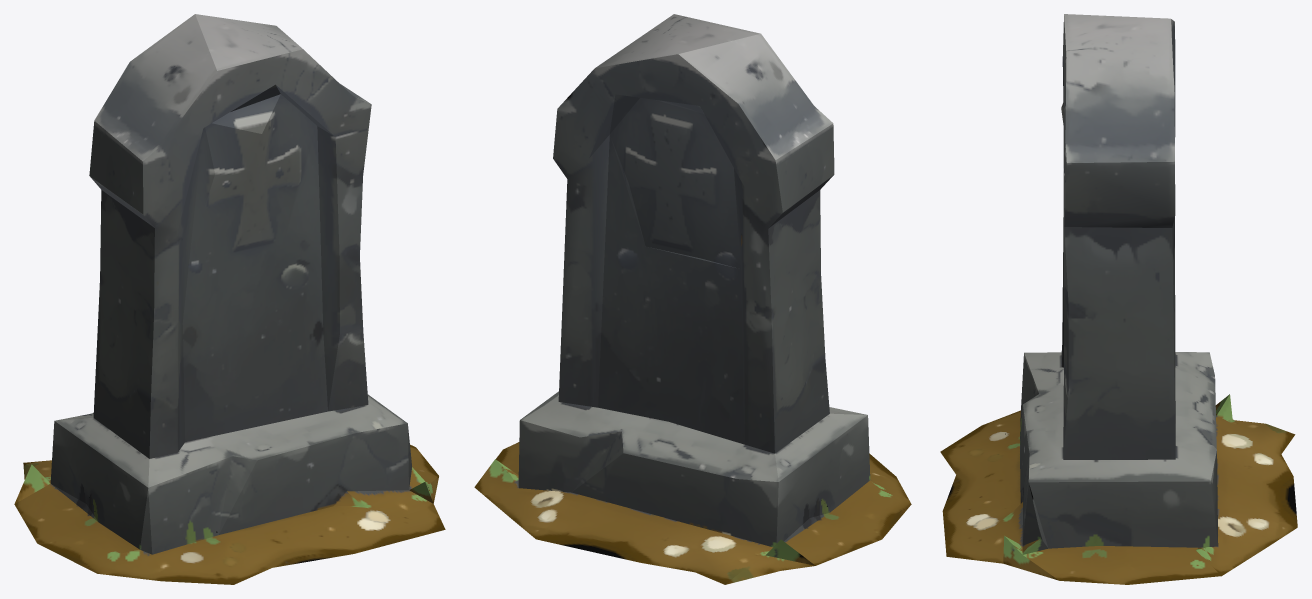
The model's file is tombstone_lod0.glb.
The picture shows the model from 3 angles, left to right: view 1: azimuth 30°, elevation 25°; view 2: azimuth 150°, elevation 25°; view 3: azimuth 270°, elevation 25°; orthographic projection. The views are drawn at different scales.
Visible parts, largest first — view 1: low; view 2: low; view 3: low.
Part boxes in pixels (left/top/right/bottom): low: left=14, top=14, right=445, bottom=584; low: left=474, top=14, right=911, bottom=584; low: left=940, top=14, right=1297, bottom=584.
Bounding box in the file's own units: 0.7846 × 0.9268 × 0.633.
1 material, 1 textured.
